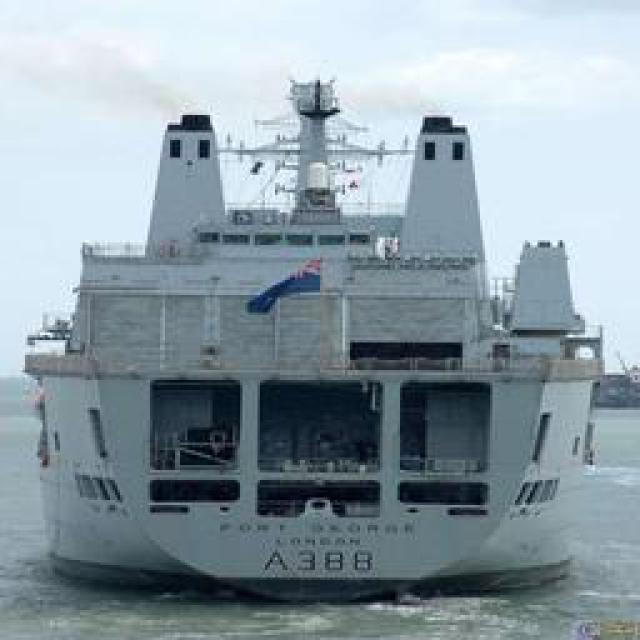Ship: (39, 43, 599, 608)
